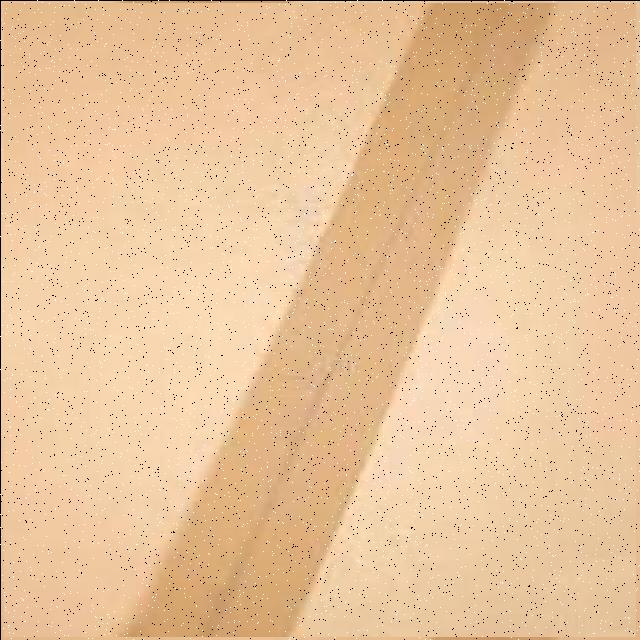normal: (3, 2, 635, 636)
